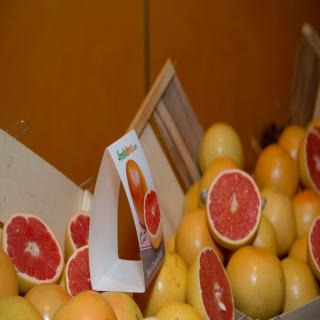Orange: (4, 217, 66, 294), (205, 168, 262, 248), (184, 246, 236, 320), (228, 246, 280, 320), (254, 146, 296, 198), (282, 255, 318, 309), (200, 122, 243, 165), (298, 122, 320, 189), (294, 186, 315, 236), (254, 216, 278, 252), (308, 214, 320, 283), (284, 126, 300, 158)
